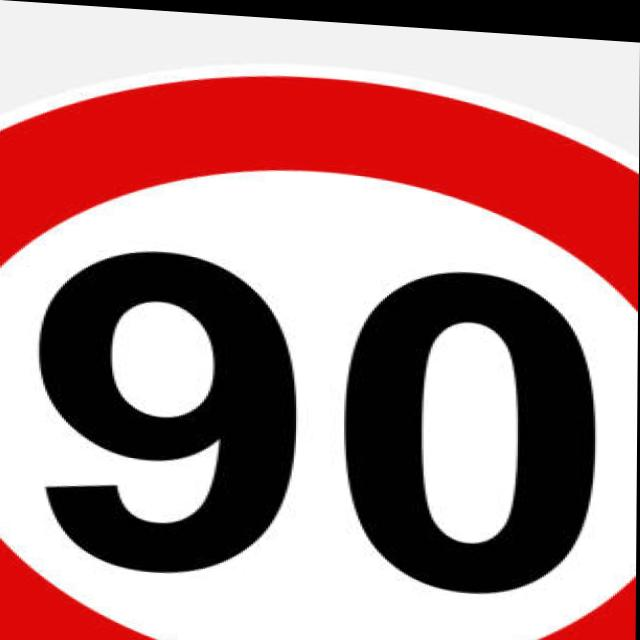Speed Limit -90-: (0, 48, 640, 640)
